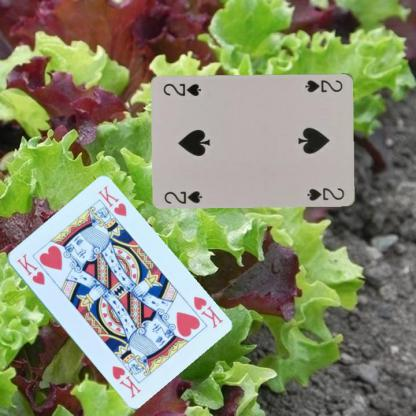2s: (303, 76, 344, 94), (162, 188, 203, 205)
Kh: (190, 293, 224, 330), (14, 250, 46, 286)
